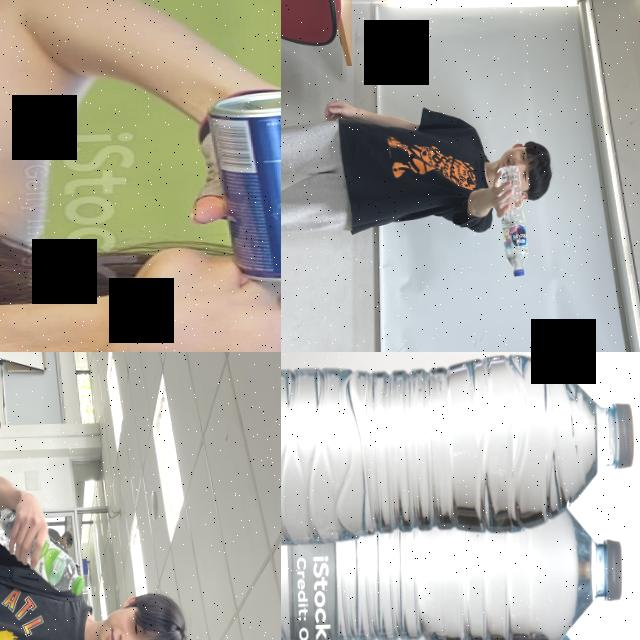bottle: (281, 352, 637, 544), (281, 504, 626, 640), (0, 504, 83, 599), (494, 162, 528, 279)
can: (208, 86, 281, 287)
